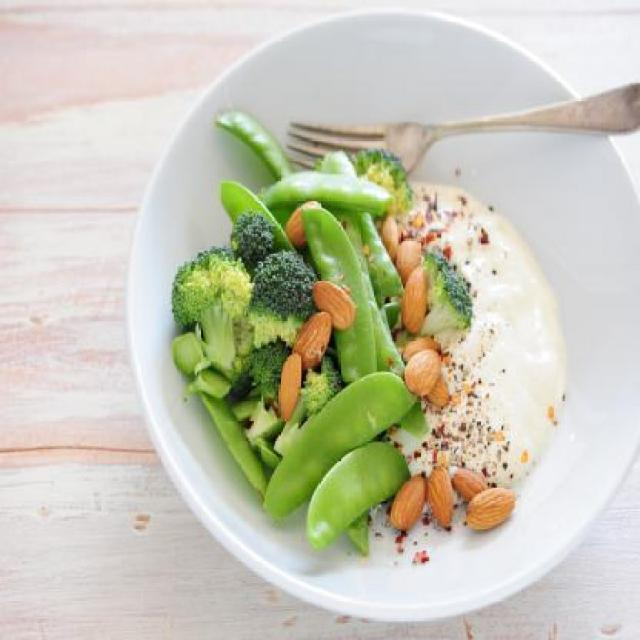Broccoli: (170, 247, 252, 396), (245, 250, 318, 348), (418, 251, 474, 340), (352, 144, 410, 226), (239, 336, 290, 408), (296, 353, 348, 421), (230, 207, 272, 275)
